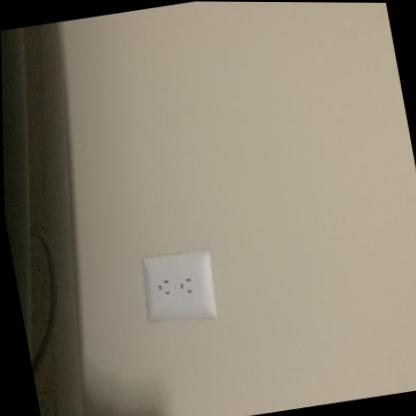OUTLET: (138, 249, 220, 327)
